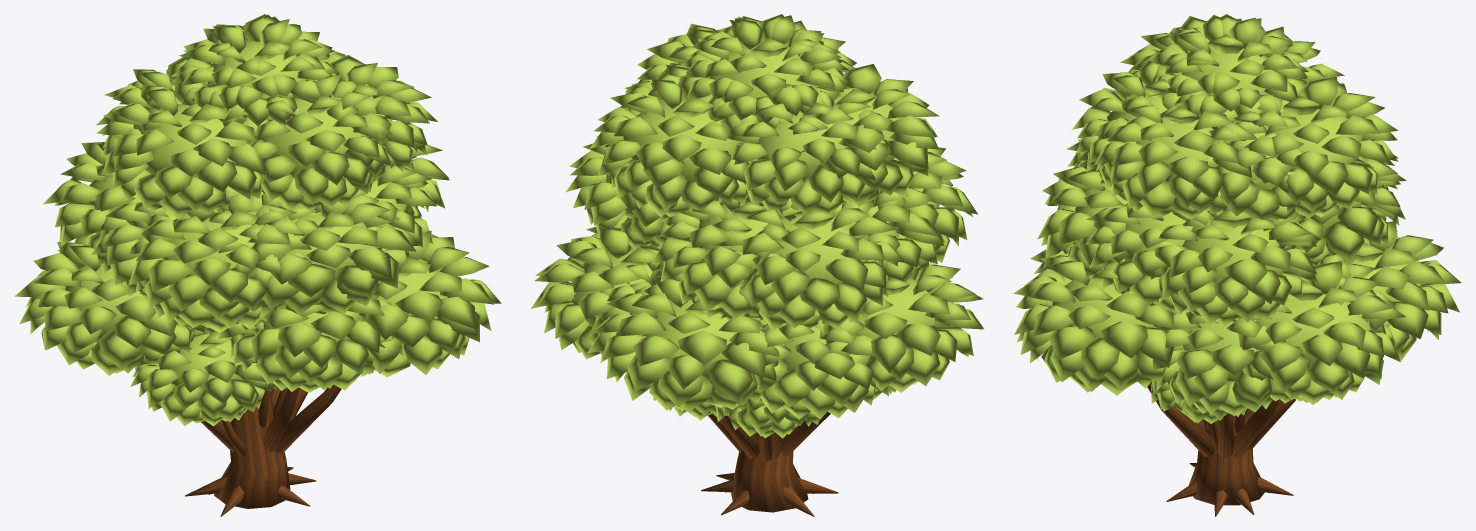
Rendered from LeafyTrees.glb.
3 renders of one model, left to right at view 1: azimuth 30°, elevation 25°; view 2: azimuth 150°, elevation 25°; view 3: azimuth 270°, elevation 25°, orthographic.
Visible parts, largest first — view 1: SM_SpreadingOak_Foliage_LOD0, SM_VerdantOak_Foliage_LOD0, SM_YoungOak_Foliage_LOD0, SM_VerdantOak_Bark_LOD0, SM_SpreadingOak_Bark_LOD0, SM_YoungOak_Bark_LOD0; view 2: SM_SpreadingOak_Foliage_LOD0, SM_VerdantOak_Foliage_LOD0, SM_VerdantOak_Bark_LOD0, SM_YoungOak_Foliage_LOD0, SM_SpreadingOak_Bark_LOD0; view 3: SM_SpreadingOak_Foliage_LOD0, SM_VerdantOak_Foliage_LOD0, SM_VerdantOak_Bark_LOD0, SM_SpreadingOak_Bark_LOD0, SM_YoungOak_Foliage_LOD0, SM_YoungOak_Bark_LOD0.
Boxes of the visible parts, x1,y1,x2,y2 form: SM_SpreadingOak_Foliage_LOD0: [14, 14, 501, 377]; SM_VerdantOak_Foliage_LOD0: [45, 14, 438, 392]; SM_YoungOak_Foliage_LOD0: [130, 320, 373, 426]; SM_VerdantOak_Bark_LOD0: [185, 361, 316, 516]; SM_SpreadingOak_Bark_LOD0: [201, 384, 341, 453]; SM_YoungOak_Bark_LOD0: [208, 387, 304, 494]; SM_SpreadingOak_Foliage_LOD0: [531, 15, 983, 412]; SM_VerdantOak_Foliage_LOD0: [571, 14, 945, 419]; SM_VerdantOak_Bark_LOD0: [701, 418, 838, 516]; SM_YoungOak_Foliage_LOD0: [652, 239, 895, 438]; SM_SpreadingOak_Bark_LOD0: [707, 412, 830, 459]; SM_SpreadingOak_Foliage_LOD0: [1013, 14, 1461, 404]; SM_VerdantOak_Foliage_LOD0: [1030, 15, 1406, 415]; SM_VerdantOak_Bark_LOD0: [1166, 400, 1293, 516]; SM_SpreadingOak_Bark_LOD0: [1147, 381, 1295, 457]; SM_YoungOak_Foliage_LOD0: [1151, 246, 1336, 423]; SM_YoungOak_Bark_LOD0: [1205, 399, 1279, 492].
Size of what is drawn, in the model's own units: 7 by 7.83 by 6.85.
2 materials, 1 textured.
